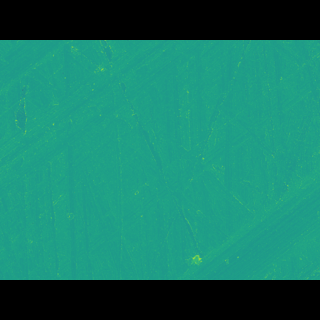Loch: (0, 69, 190, 185), (173, 164, 320, 250)
